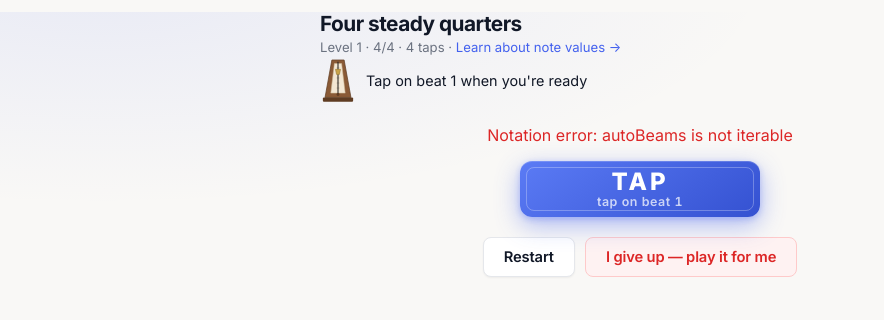
ExercisePlayer › runs the metronome at the exercise tempo while capturing and stops it after
The image size is (884, 320).
Expected: the heading "Four steady quarters" is shown, [320,11,522,36]
Expected: the element with class "swinging" is shown, [336,63,340,95]
Click the button "TAP tap on beat 1" at (640, 189), box [520,161,760,217]
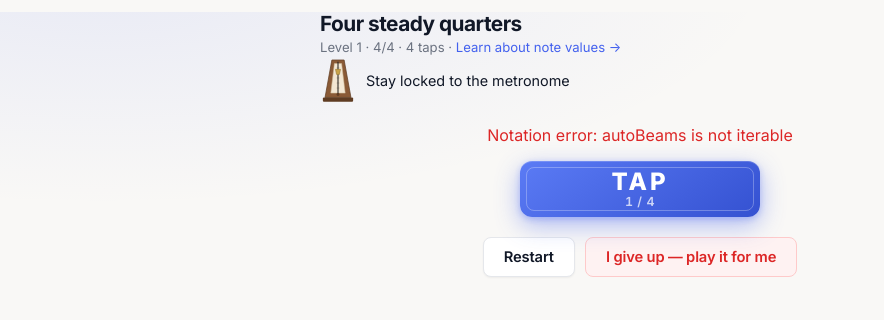
Click the button "TAP 1 / 4" at (640, 189), box [520,161,760,217]
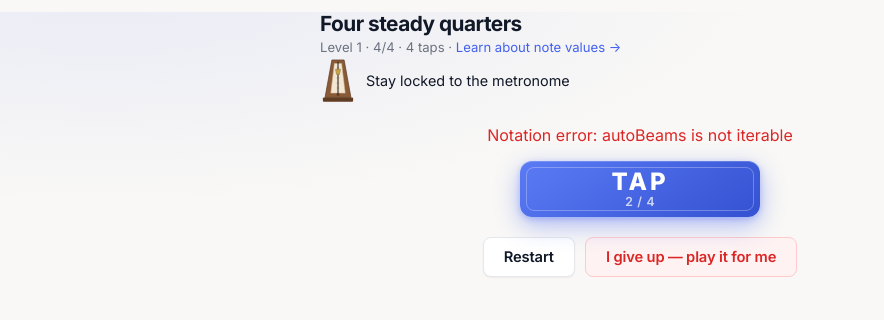
Click the button "TAP 2 / 4" at (640, 189), box [520,161,760,217]
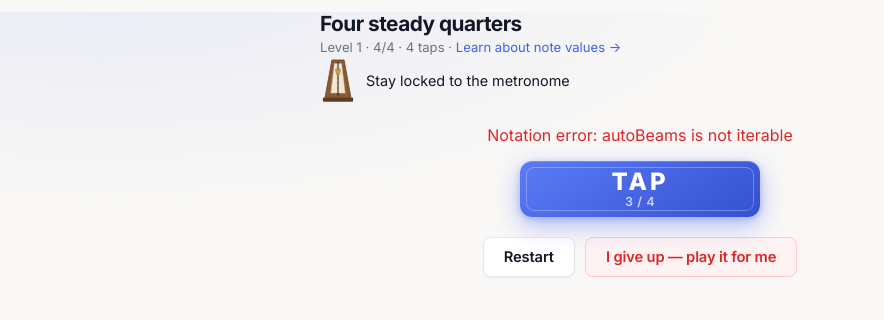
Click the button "TAP 3 / 4" at (640, 189), box [520,161,760,217]
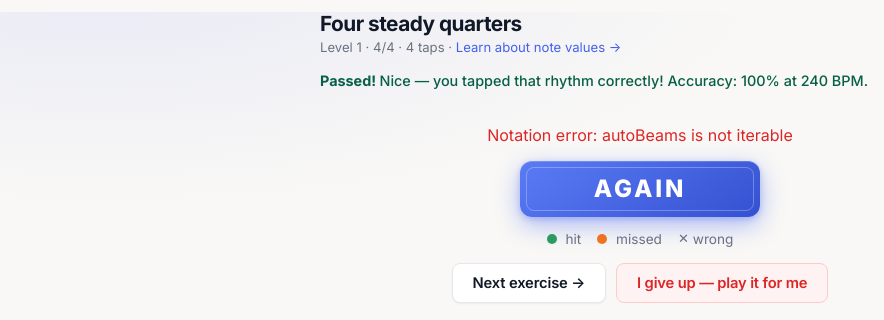
Result: the text "Passed!" is shown at [320,72,380,90]
Result: the picture with test id "metronome" is gone
